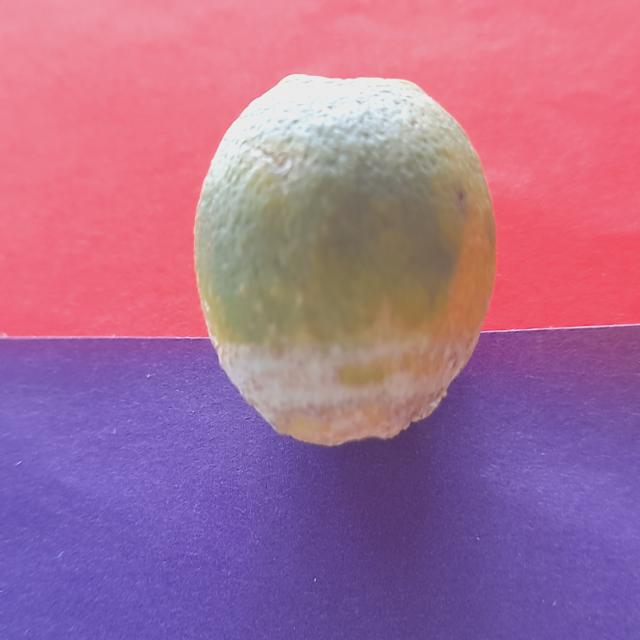thrips: (202, 79, 494, 444)
